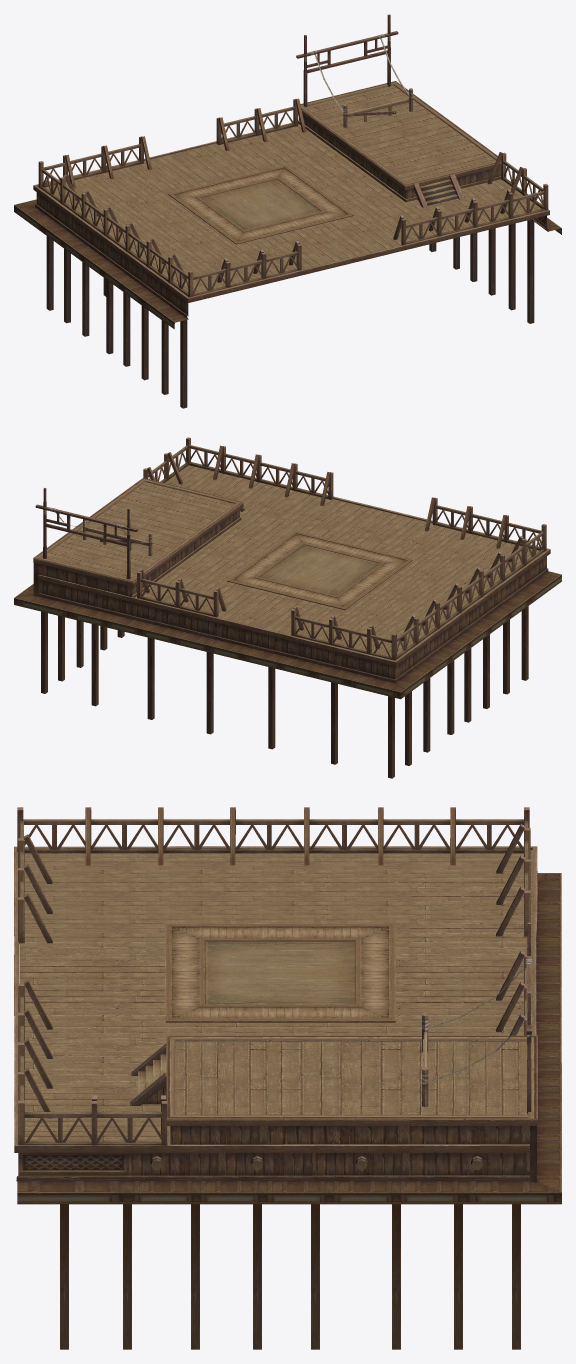
File: Hangzhou_wj_019_1.FBX
3 renders of one model, top to bottom at view 1: azimuth 30°, elevation 25°; view 2: azimuth 150°, elevation 25°; view 3: azimuth 270°, elevation 25°, orthographic. The views are drawn at different scales.
Parts seen in each view (by area): view 1: DrawCall_0415, Object002; view 2: DrawCall_0415, Object002; view 3: DrawCall_0415, Object002.
Part boxes in pixels (box(x1,y1,x2,y2)): DrawCall_0415: box(14, 81, 561, 329); Object002: box(38, 14, 548, 408); DrawCall_0415: box(14, 462, 561, 699); Object002: box(33, 437, 546, 778); DrawCall_0415: box(14, 846, 561, 1204); Object002: box(17, 807, 536, 1349).
Size of the model in its own units: 1419 by 729 by 1028.
